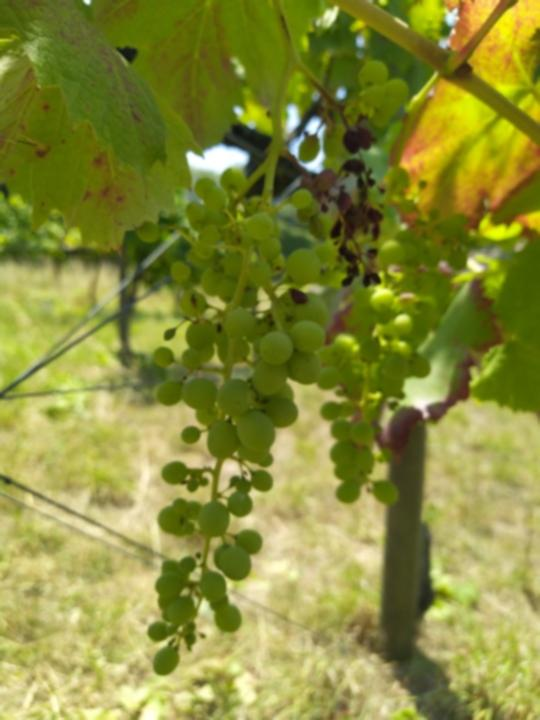grape: (130, 170, 340, 683), (321, 89, 401, 288)
